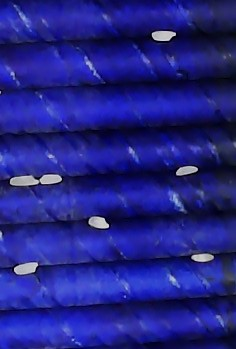broken_grain: (87, 215, 112, 233)
complete_grain: (8, 174, 40, 191), (11, 261, 41, 278), (39, 172, 65, 188), (149, 30, 178, 43), (173, 164, 201, 177), (190, 251, 217, 264)
